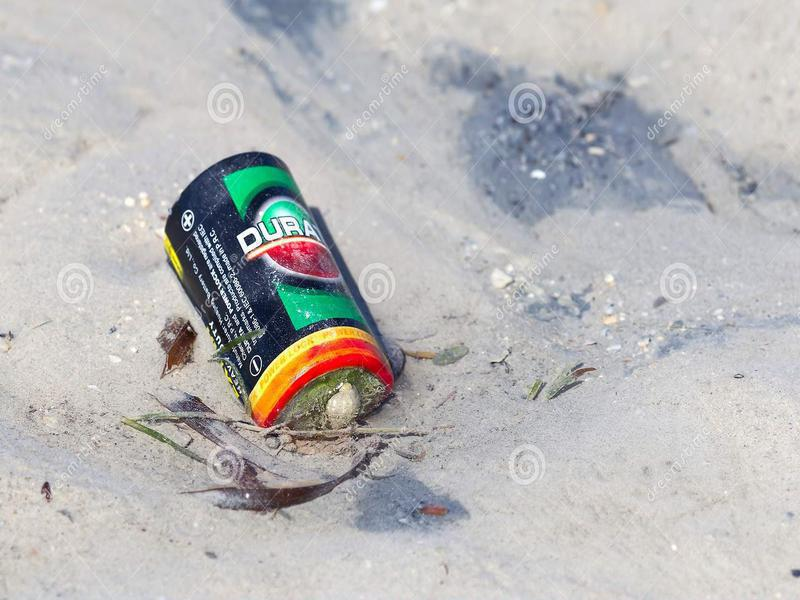battery: (153, 141, 410, 436)
